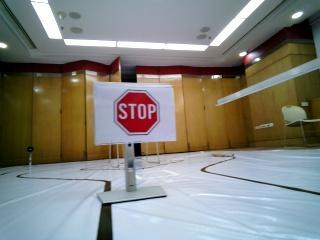stop: (104, 88, 167, 139)
